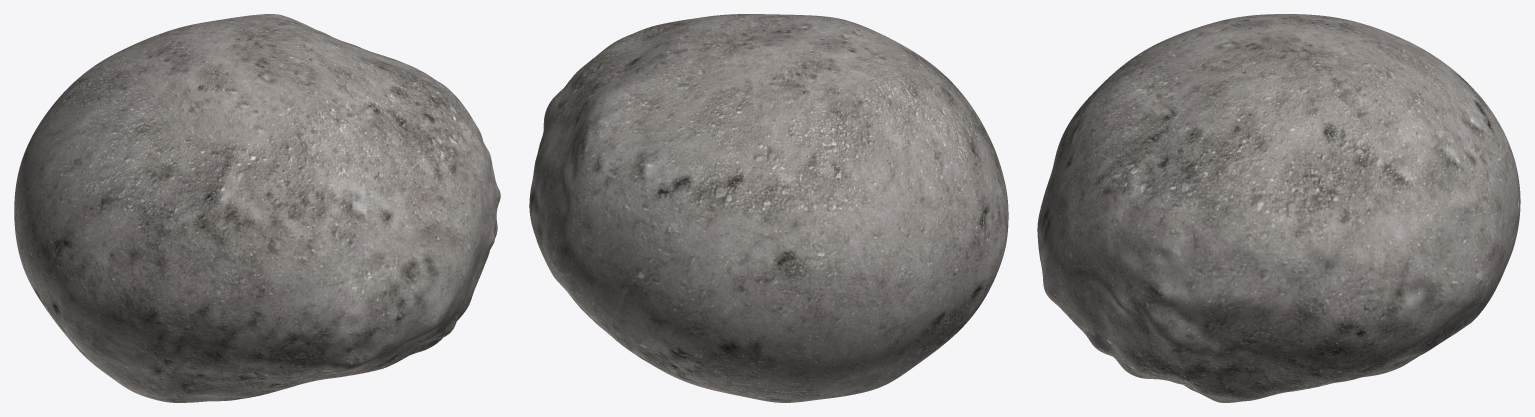
File: didymos.glb
The picture shows the model from 3 angles, left to right: view 1: azimuth 30°, elevation 25°; view 2: azimuth 150°, elevation 25°; view 3: azimuth 270°, elevation 25°; orthographic projection. The views are drawn at different scales.
Visible parts, largest first — view 1: didymos; view 2: didymos; view 3: didymos.
Part boxes in pixels (x1,y1,x2,y2): didymos: (14,14,500,402); didymos: (529,14,1008,402); didymos: (1037,14,1520,402).
Size of the model in its own units: 0.8185 by 0.6055 by 0.8015.
1 material, 1 textured.
